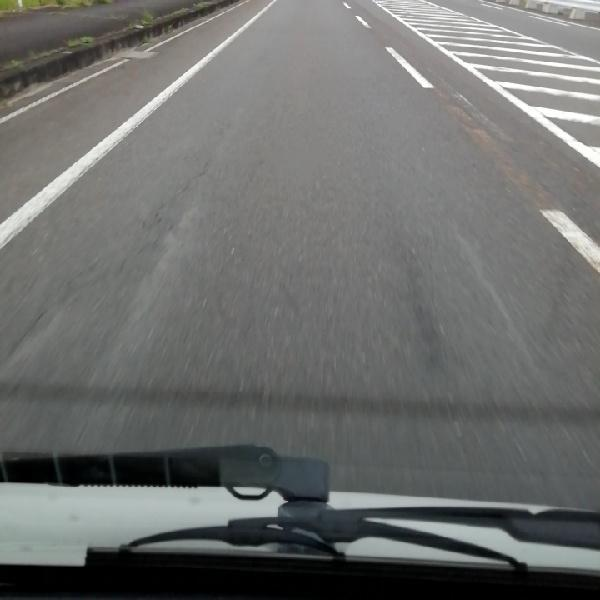D00: (22, 140, 214, 345), (447, 217, 543, 368)
